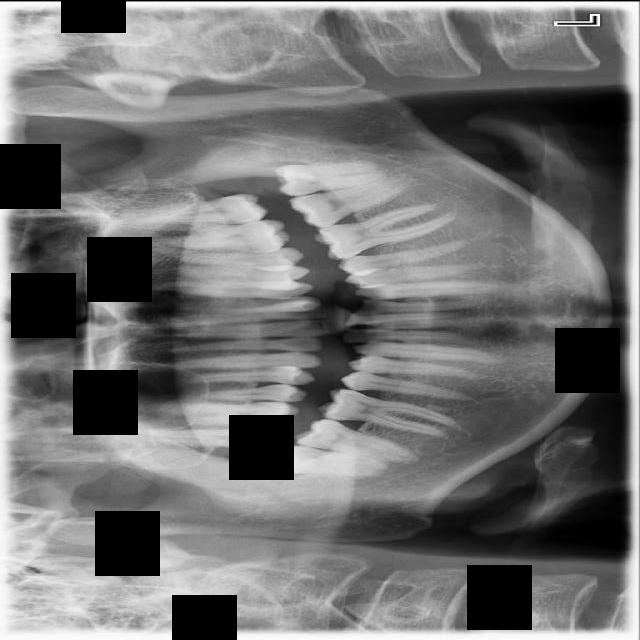73: (574, 36, 588, 43)
BioHorizons Implant: (118, 190, 271, 238)
Biomet 3i Implant: (275, 157, 386, 197)
Blue Sky Bio Implant: (287, 172, 419, 233)
Caries: (149, 426, 278, 451)
Implant: (293, 413, 419, 466)
Keystone Dental Implant: (280, 444, 388, 477)
